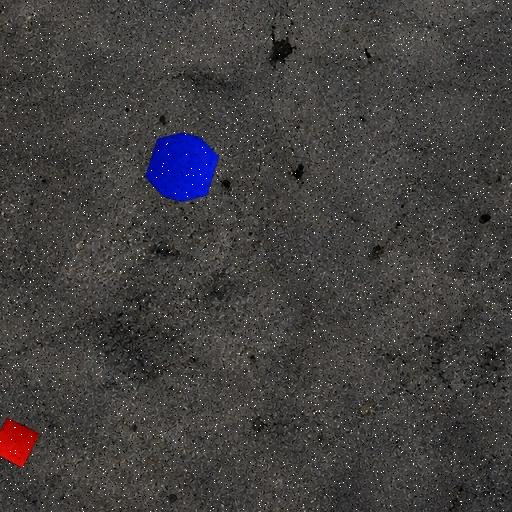RED_SQUARE: (0, 418, 41, 468)
